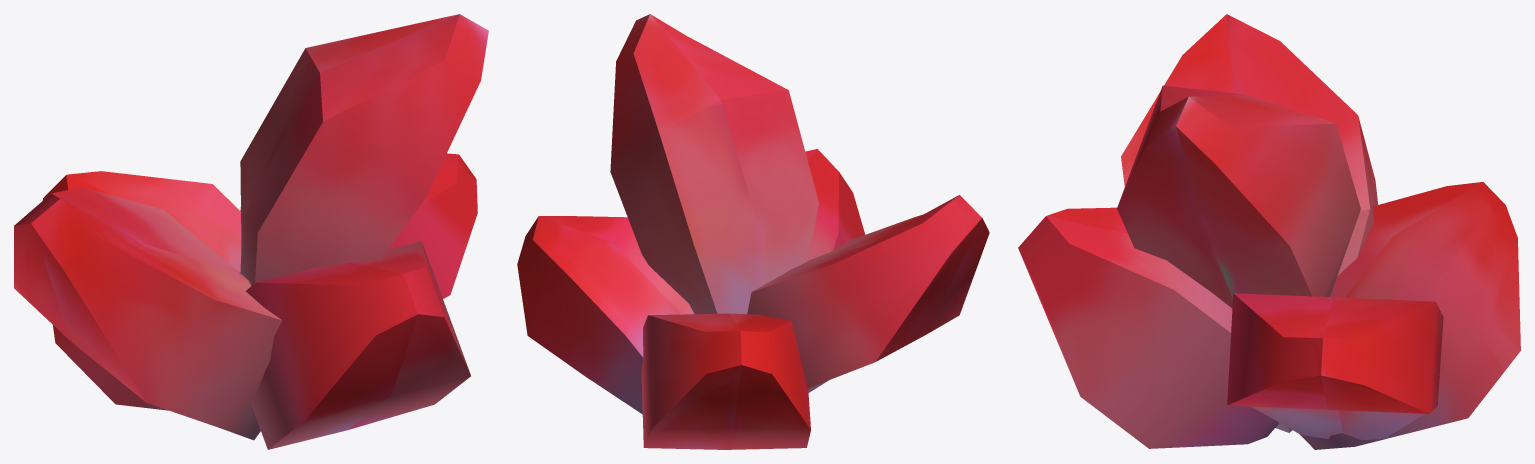
Rendered from bullet-3.fbx.
3 views of the same model, side by side, from view 1: azimuth 30°, elevation 25°; view 2: azimuth 150°, elevation 25°; view 3: azimuth 270°, elevation 25° (orthographic). The views are drawn at different scales.
Visible parts, largest first — view 1: bullet-3; view 2: bullet-3; view 3: bullet-3.
Boxes of the visible parts, bbox=[...] form: bullet-3: bbox=[14, 14, 488, 449]; bullet-3: bbox=[517, 14, 989, 449]; bullet-3: bbox=[1018, 14, 1520, 449].
Size of the model in its own units: 206 by 166 by 179.
1 material, 1 textured.
